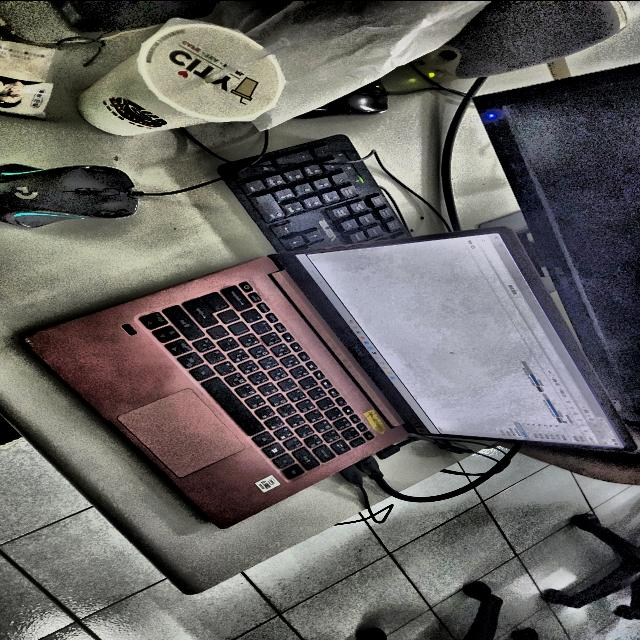laptop: (23, 226, 635, 527)
